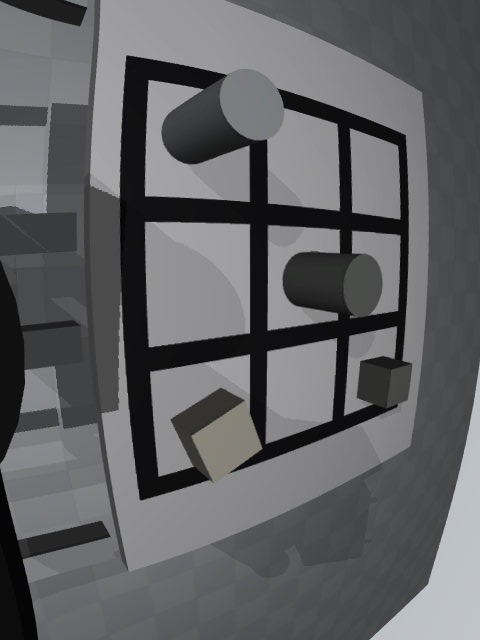can: (161, 69, 284, 164)
cube: (356, 356, 412, 409)
cylinder: (283, 253, 383, 318)
foam: (171, 388, 262, 483)
